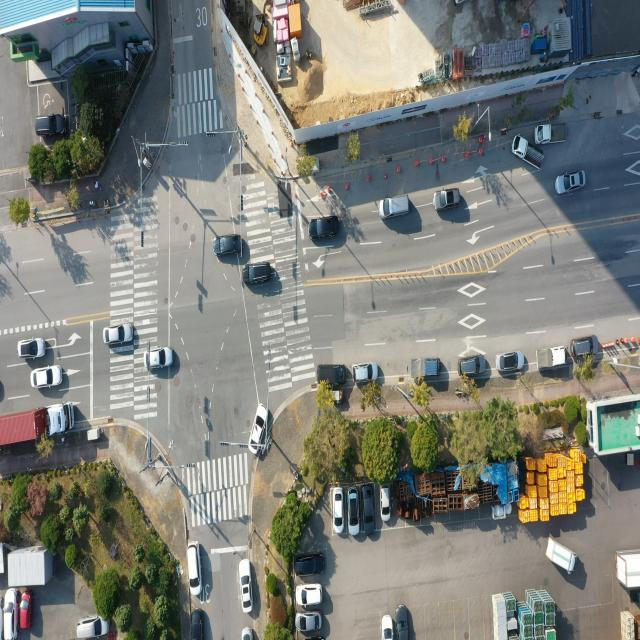car: (249, 402, 269, 454), (376, 195, 408, 221), (2, 587, 18, 639), (33, 115, 65, 140), (76, 615, 108, 640), (310, 216, 340, 241), (556, 170, 586, 195), (297, 554, 326, 579), (104, 322, 134, 346), (319, 362, 349, 386), (32, 367, 63, 390), (187, 543, 200, 597), (240, 560, 253, 614), (458, 353, 486, 377), (244, 263, 272, 287), (145, 347, 174, 370), (432, 189, 459, 213), (215, 234, 242, 258), (498, 351, 526, 374), (348, 488, 361, 536), (571, 337, 598, 360), (361, 486, 374, 533), (352, 361, 378, 384), (19, 339, 46, 361), (298, 585, 323, 608), (18, 591, 32, 631), (335, 488, 346, 535), (299, 614, 323, 634), (396, 605, 408, 640), (190, 608, 203, 640), (380, 487, 390, 521), (383, 616, 395, 640), (240, 628, 251, 640), (0, 380, 5, 404)
large_truck: (0, 401, 72, 448)
medium_truck: (547, 538, 578, 575), (616, 552, 640, 591)
small_truck: (513, 134, 545, 169), (535, 346, 567, 372), (410, 355, 442, 379), (536, 124, 568, 147)
